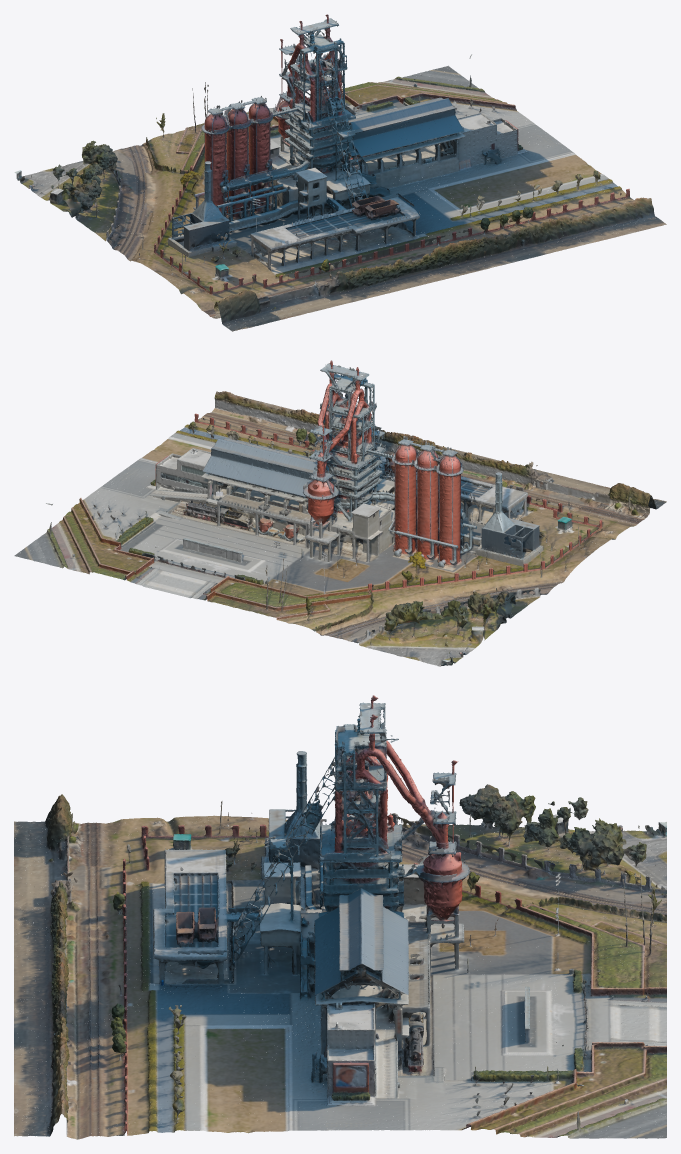
File: factory3.glb
3 renders of one model, top to bottom at view 1: azimuth 30°, elevation 25°; view 2: azimuth 150°, elevation 25°; view 3: azimuth 270°, elevation 25°, orthographic. The views are drawn at different scales.
Visible parts, largest first — view 1: Object_2, Object_9, Object_10, Object_6, Object_11, Object_14, Object_8, Object_13, Object_5, Object_3, Object_4, Object_7 (+2 smaller); view 2: Object_2, Object_13, Object_11, Object_9, Object_10, Object_8, Object_6, Object_4, Object_12, Object_5, Object_14, Object_3 (+2 smaller); view 3: Object_2, Object_11, Object_13, Object_9, Object_4, Object_5, Object_10, Object_14, Object_12, Object_7, Object_8, Object_3 (+2 smaller).
Boxes of the visible parts, box(x1,y1,x2,y2) form: Object_2: box(14, 65, 666, 331); Object_9: box(57, 98, 525, 316); Object_10: box(183, 96, 661, 329); Object_6: box(107, 51, 427, 271); Object_11: box(201, 75, 653, 282); Object_14: box(50, 99, 496, 308); Object_8: box(115, 97, 487, 251); Object_13: box(52, 54, 565, 225); Object_5: box(278, 48, 562, 237); Object_3: box(248, 39, 431, 257); Object_4: box(248, 14, 418, 215); Object_7: box(115, 92, 388, 206); Object_2: box(14, 391, 666, 666); Object_13: box(19, 416, 514, 619); Object_11: box(77, 408, 546, 596); Object_9: box(172, 438, 637, 635); Object_10: box(195, 391, 660, 549); Object_8: box(195, 438, 489, 643); Object_6: box(318, 388, 588, 594); Object_4: box(223, 360, 394, 589); Object_12: box(115, 409, 519, 638); Object_5: box(222, 388, 376, 575); Object_14: box(211, 432, 579, 655); Object_3: box(288, 424, 438, 558); Object_2: box(14, 784, 666, 1139); Object_11: box(14, 813, 666, 1132); Object_13: box(112, 771, 666, 1138); Object_9: box(16, 725, 557, 1086); Object_4: box(194, 695, 556, 1011); Object_5: box(126, 742, 555, 1089); Object_10: box(14, 756, 495, 1135); Object_14: box(14, 774, 665, 1017); Object_12: box(15, 785, 589, 1092); Object_7: box(200, 813, 651, 936); Object_8: box(14, 756, 665, 1121); Object_3: box(127, 760, 469, 1008).
Bounding box in the file's own units: 276 × 112 × 241.
Materials: 1 (1 with a texture image).
